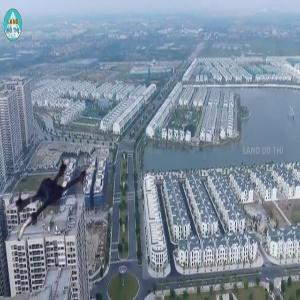drone: (3, 152, 108, 257)
